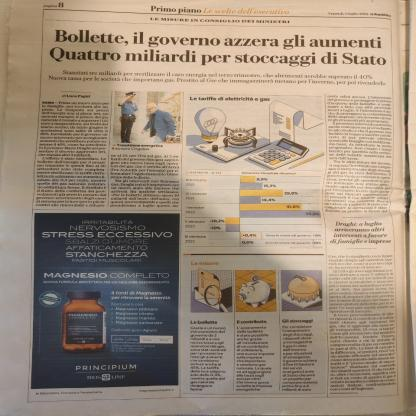immagine: (29, 211, 180, 388), (184, 92, 324, 254), (183, 261, 327, 399), (111, 89, 183, 146)
testo_col: (325, 254, 400, 401), (323, 92, 391, 217), (35, 98, 108, 209), (108, 152, 185, 213)
titolo: (43, 21, 392, 70)
